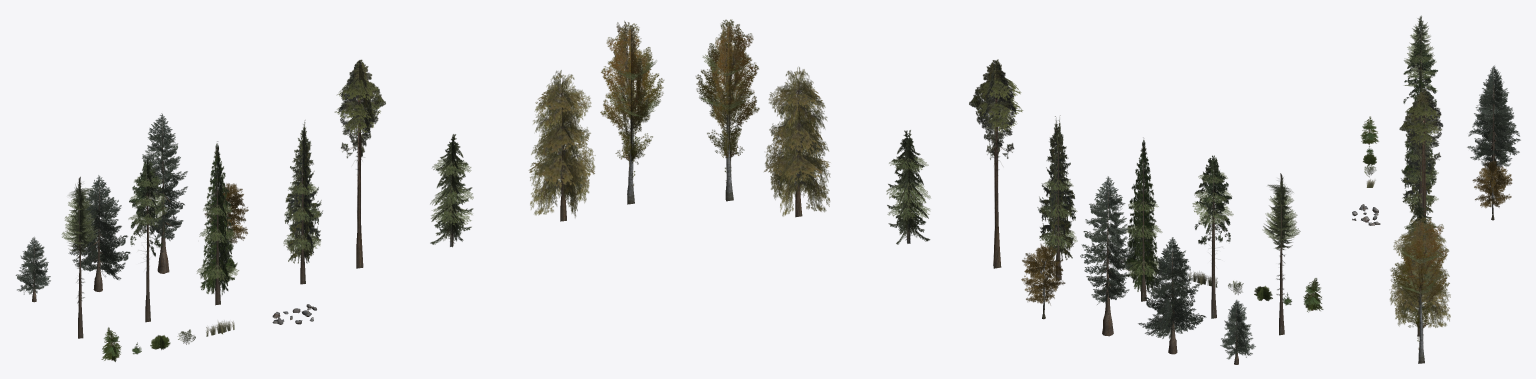
Rendered from forest-tree-pack.glb.
3 renders of one model, left to right at view 1: azimuth 30°, elevation 25°; view 2: azimuth 150°, elevation 25°; view 3: azimuth 270°, elevation 25°, orthographic. The views are drawn at different scales.
Parts seen in each view (by area): view 1: Background_Tree_Atlas.004, Background_Tree_Atlas.001, Background_Tree_Atlas, Background_Tree_Atlas.003, Background_Tree_Atlas.005, Tree_Branches_01.002, Tree_Branches_01, Background_Tree_Atlas.002, Background_Tree_Atlas.007, Background_Tree_Atlas.006, Tree_Branches_01.001, Tree_Branches_02; view 2: Background_Tree_Atlas.004, Background_Tree_Atlas.001, Tree_Branches_01, Tree_Branches_01.002, Background_Tree_Atlas.005, Background_Tree_Atlas, Background_Tree_Atlas.003, Background_Tree_Atlas.002, Background_Tree_Atlas.007, Background_Tree_Atlas.006, Tree_Branches_02, Tree_Branches_01.001 (+1 smaller); view 3: Background_Tree_Atlas.001, Background_Tree_Atlas.004, Tree_Branches_01, Background_Tree_Atlas.005, Tree_Branches_01.002, Background_Tree_Atlas.003, Tree_Branches_02, Background_Tree_Atlas.007, Background_Tree_Atlas.006, Background_Tree_Atlas, Background_Tree_Atlas.002, Background_Tree_Atlas.009 (+1 smaller).
Boxes of the visible parts, <box> form: Background_Tree_Atlas.004: <box>529,70,595,221</box>; Background_Tree_Atlas.001: <box>600,21,664,204</box>; Background_Tree_Atlas: <box>197,141,238,305</box>; Background_Tree_Atlas.003: <box>283,120,322,284</box>; Background_Tree_Atlas.005: <box>334,59,385,268</box>; Tree_Branches_01.002: <box>68,175,130,279</box>; Tree_Branches_01: <box>142,113,187,240</box>; Background_Tree_Atlas.002: <box>430,134,473,247</box>; Background_Tree_Atlas.007: <box>128,159,168,322</box>; Background_Tree_Atlas.006: <box>61,176,98,338</box>; Tree_Branches_01.001: <box>15,237,50,294</box>; Tree_Branches_02: <box>204,183,248,243</box>; Background_Tree_Atlas.004: <box>764,67,830,217</box>; Background_Tree_Atlas.001: <box>695,19,759,201</box>; Tree_Branches_01: <box>1080,176,1135,304</box>; Tree_Branches_01.002: <box>1138,237,1206,339</box>; Background_Tree_Atlas.005: <box>969,59,1022,268</box>; Background_Tree_Atlas: <box>1123,137,1162,301</box>; Background_Tree_Atlas.003: <box>1037,115,1077,280</box>; Background_Tree_Atlas.002: <box>886,130,930,244</box>; Background_Tree_Atlas.007: <box>1192,155,1233,318</box>; Background_Tree_Atlas.006: <box>1262,173,1300,335</box>; Tree_Branches_02: <box>1021,243,1065,304</box>; Tree_Branches_01.001: <box>1220,300,1255,359</box>; Background_Tree_Atlas.001: <box>1390,217,1449,363</box>; Background_Tree_Atlas.004: <box>1389,214,1450,336</box>; Tree_Branches_01: <box>1477,65,1512,167</box>; Background_Tree_Atlas.005: <box>1399,89,1443,221</box>; Tree_Branches_01.002: <box>1467,81,1520,161</box>; Background_Tree_Atlas.003: <box>1401,117,1438,215</box>; Tree_Branches_02: <box>1472,160,1512,208</box>; Background_Tree_Atlas.007: <box>1403,40,1437,113</box>; Background_Tree_Atlas.006: <box>1404,15,1436,80</box>; Background_Tree_Atlas: <box>1401,69,1438,191</box>; Background_Tree_Atlas.002: <box>1401,201,1437,284</box>; Background_Tree_Atlas.009: <box>1360,116,1378,144</box>.
Bounding box in the file's own units: 101 × 33.75 × 30.38.
Materials: 6 (6 with a texture image).
